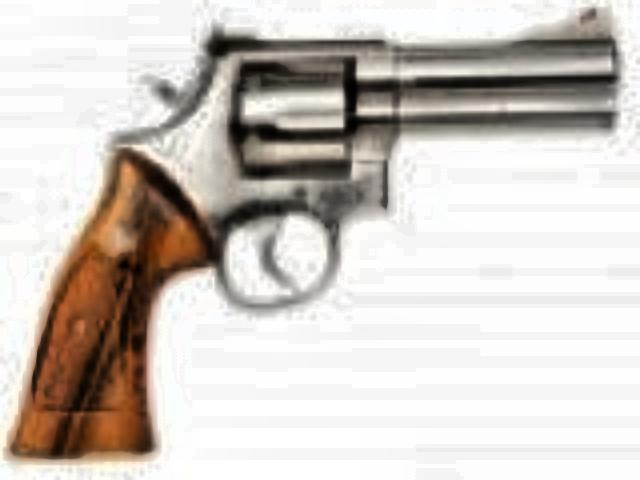pistol: (8, 8, 608, 444)
